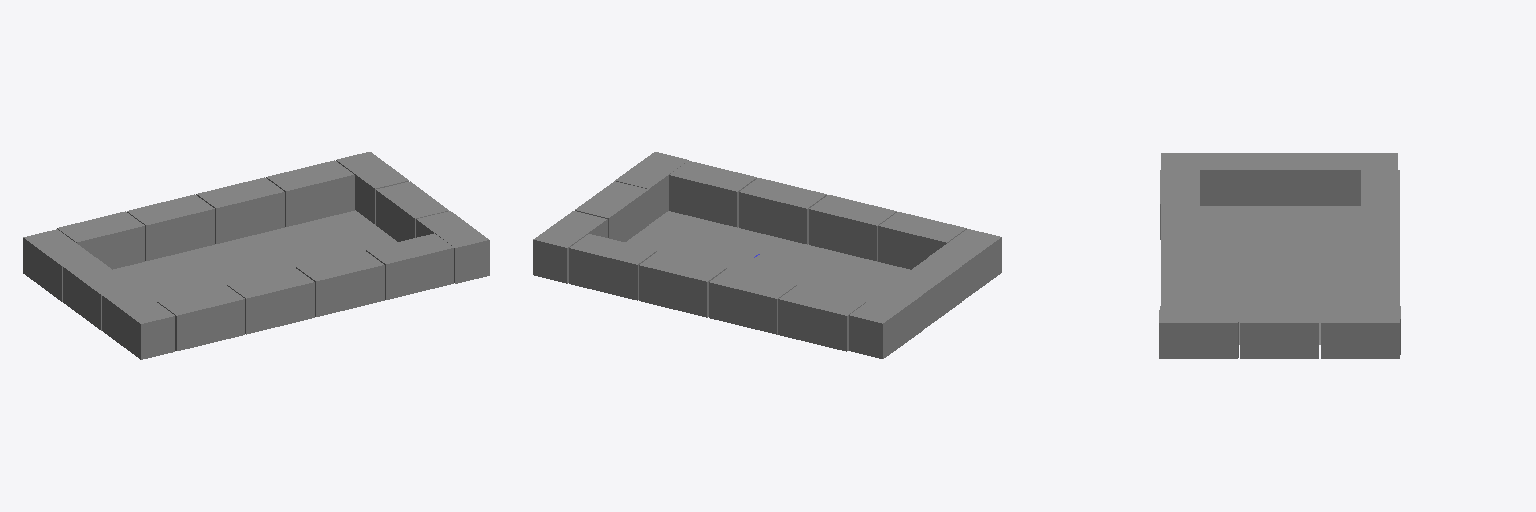
File: Jardinera_2.obj
The picture shows the model from 3 angles: view 1: azimuth 30°, elevation 25°; view 2: azimuth 150°, elevation 25°; view 3: azimuth 270°, elevation 25°; orthographic projection.
Visible parts, largest first — view 1: Plane001, Box007, Box003, Box001, Box010, Box008, Box002, Box009, Box011, Box004, Box014, Box005 (+3 smaller); view 2: Plane001, Box005, Box004, Box010, Box001, Box003, Box011, Box009, Box002, Box008, Box012, Box007 (+3 smaller); view 3: Plane001, Box012, Box014, Box013, Box006, Box005, Box007, Box008, Box001, Box002, Box003, Box004 (+3 smaller).
Boxes of the visible parts, box(x1,y1,x2,y2) form: Plane001: box(113, 210, 396, 301); Box007: box(102, 287, 174, 359); Box003: box(266, 160, 354, 226); Box001: box(196, 177, 284, 243); Box010: box(296, 250, 384, 316); Box008: box(157, 285, 244, 350); Box002: box(127, 194, 214, 260); Box009: box(227, 268, 314, 334); Box011: box(366, 233, 453, 299); Box004: box(57, 211, 144, 269); Box014: box(416, 211, 489, 283); Box005: box(23, 229, 95, 301); Plane001: box(625, 211, 909, 301); Box005: box(849, 287, 922, 358); Box004: box(778, 285, 866, 351); Box010: box(739, 178, 826, 244); Box001: box(639, 251, 726, 317); Box003: box(569, 234, 656, 300); Box011: box(669, 161, 756, 227); Box009: box(809, 195, 896, 261); Box002: box(709, 268, 796, 334); Box008: box(878, 212, 966, 269); Box012: box(533, 211, 607, 283); Box007: box(928, 229, 1001, 300); Plane001: box(1200, 206, 1360, 344); Box012: box(1321, 306, 1400, 358); Box014: box(1159, 306, 1238, 358); Box013: box(1240, 306, 1318, 358); Box006: box(1240, 153, 1318, 205); Box005: box(1318, 153, 1397, 205); Box007: box(1161, 153, 1239, 205); Box008: box(1160, 170, 1199, 239); Box001: box(1361, 238, 1399, 271); Box002: box(1361, 204, 1399, 237); Box003: box(1361, 272, 1399, 305); Box004: box(1361, 170, 1399, 203).
Size of the model in its own units: 102 by 10 by 60.97.